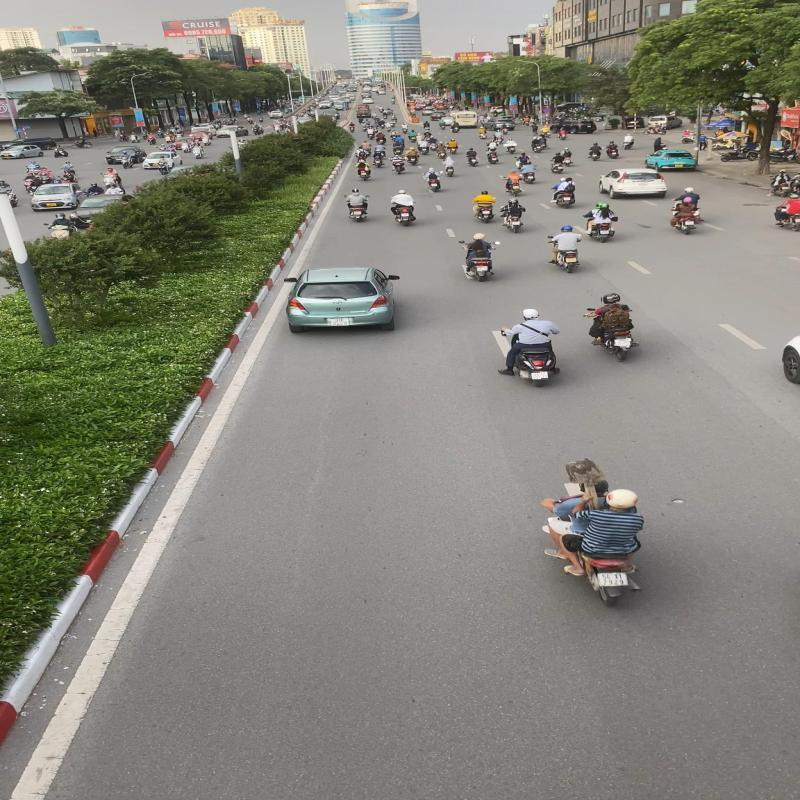helmet: (602, 293, 622, 305), (521, 310, 541, 320), (471, 233, 486, 241), (560, 224, 573, 233)
licenseplate: (531, 372, 550, 380), (614, 340, 632, 348), (476, 266, 489, 271)
motorcyclist: (499, 309, 565, 389), (581, 292, 642, 362), (457, 232, 501, 283), (545, 224, 584, 274)
